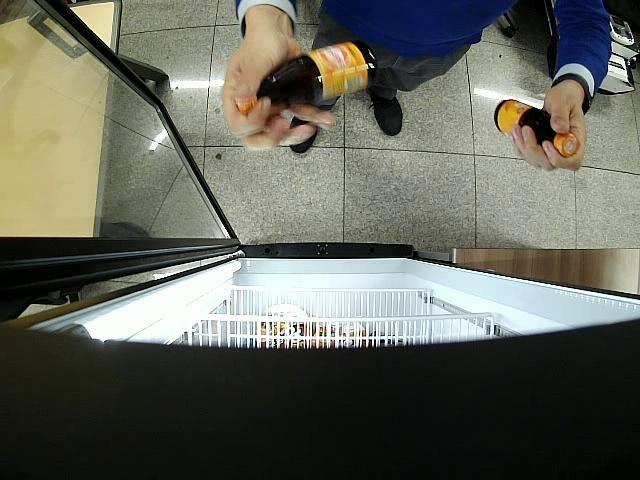17_vita500: (242, 40, 378, 115), (495, 100, 579, 158)
